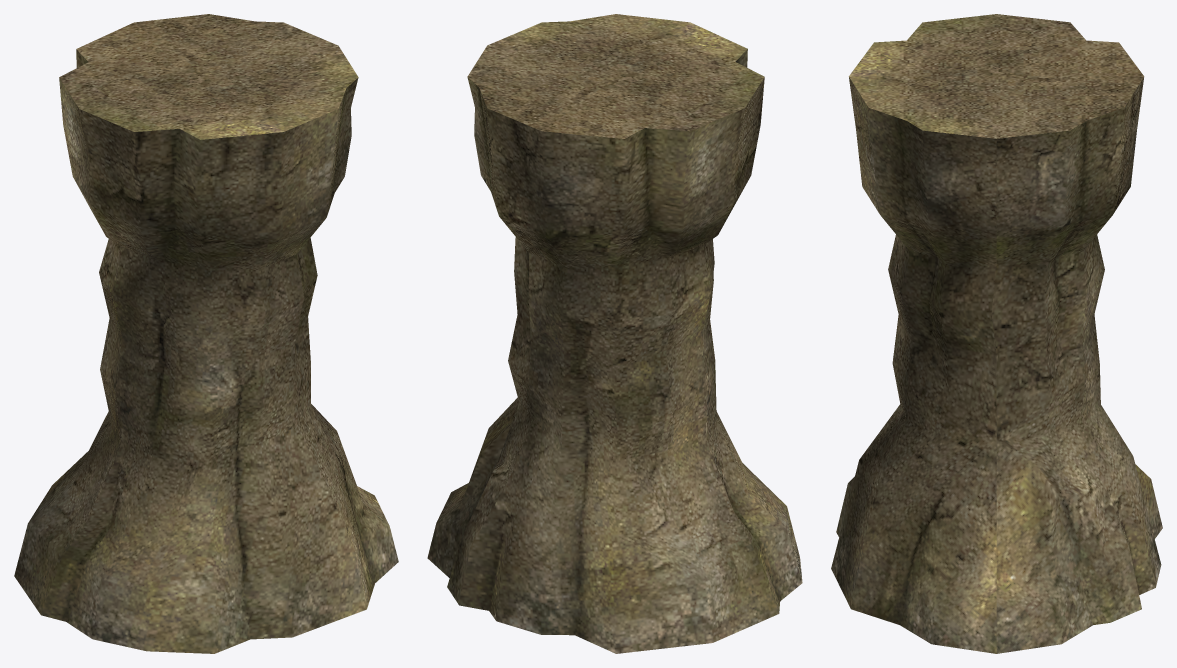
File: anthill_01.fbx
3 renders of one model, left to right at view 1: azimuth 30°, elevation 25°; view 2: azimuth 150°, elevation 25°; view 3: azimuth 270°, elevation 25°, orthographic.
Visible parts, largest first — view 1: objanthill_01; view 2: objanthill_01; view 3: objanthill_01.
Boxes of the visible parts, x1,y1,x2,y2 form: objanthill_01: [14, 14, 398, 653]; objanthill_01: [427, 14, 802, 653]; objanthill_01: [831, 14, 1162, 653].
Bounding box in the file's own units: 10.4 × 14.44 × 8.82.
